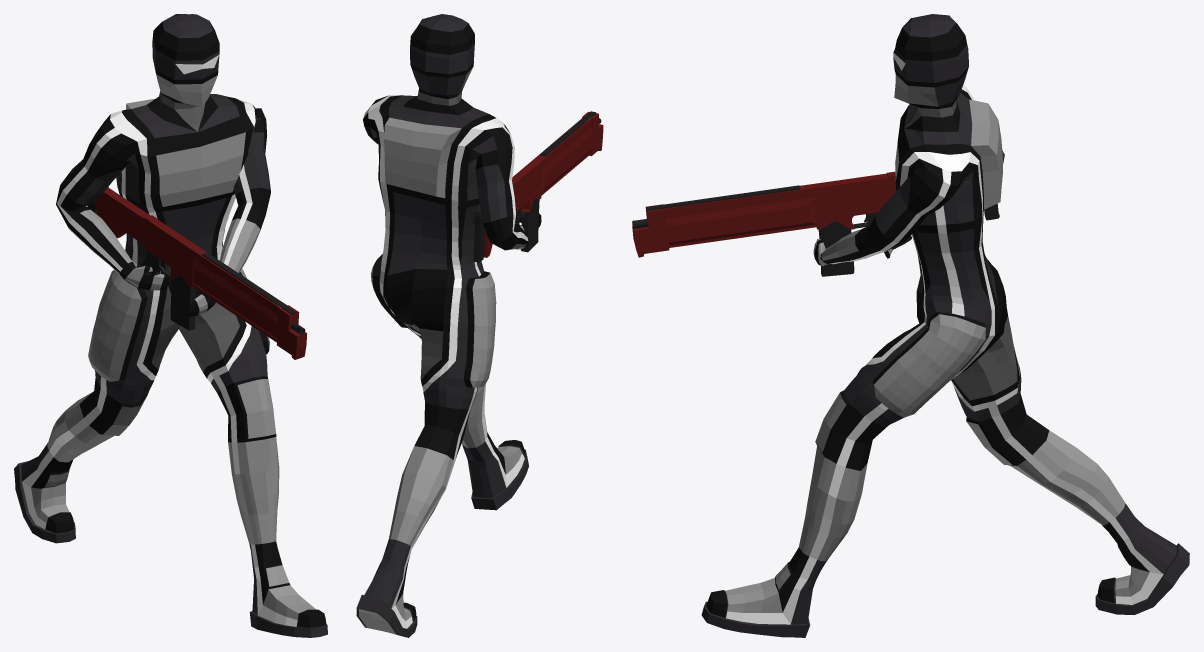
File: MCR7.obj
3 views of the same model, side by side, from view 1: azimuth 30°, elevation 25°; view 2: azimuth 150°, elevation 25°; view 3: azimuth 270°, elevation 25° (orthographic). The views are drawn at different scales.
Visible parts, largest first — view 1: metarig_object_metarig_mesh, Cube.001; view 2: metarig_object_metarig_mesh, Cube.001; view 3: metarig_object_metarig_mesh, Cube.001.
Boxes of the visible parts, x1,y1,x2,y2 form: metarig_object_metarig_mesh: (14,14,327,637); Cube.001: (87,187,306,359); metarig_object_metarig_mesh: (356,14,541,637); Cube.001: (473,111,603,262); metarig_object_metarig_mesh: (701,14,1189,637); Cube.001: (632,171,999,276).
Bounding box in the file's own units: 0.5322 × 1.61 × 1.34.
Materials: 2 (2 with a texture image).
